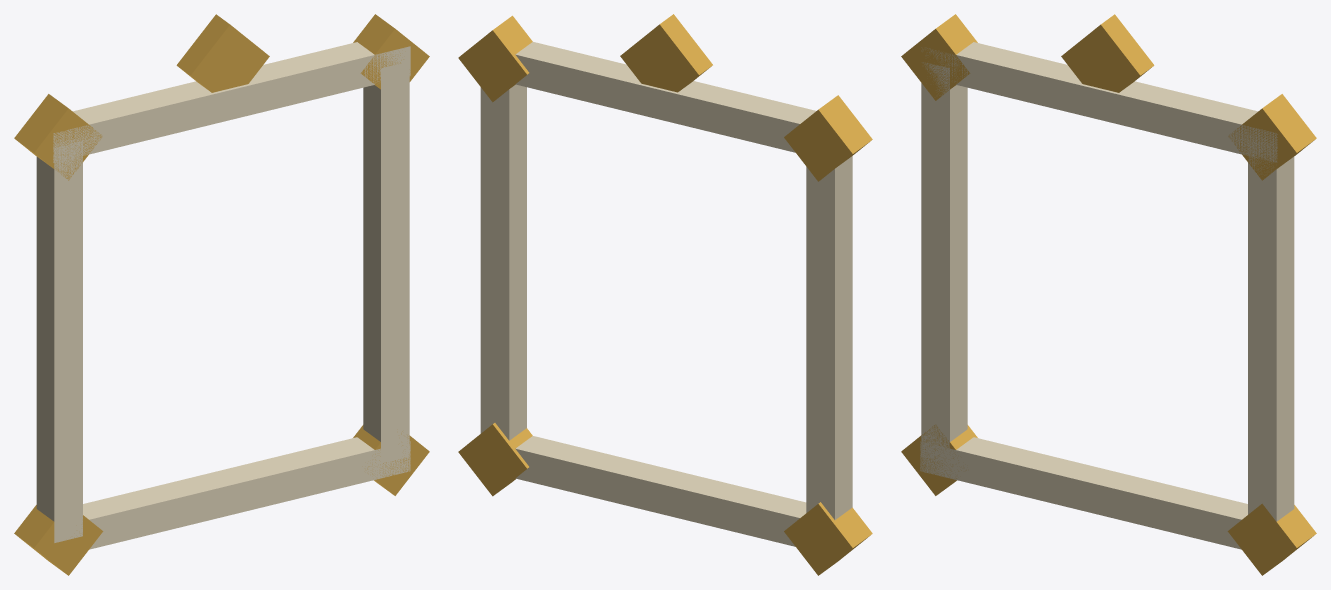
Rendered from ivory_portrait_frame.glb.
The picture shows the model from 3 angles, left to right: view 1: azimuth 30°, elevation 25°; view 2: azimuth 150°, elevation 25°; view 3: azimuth 330°, elevation 25°; orthographic projection.
Parts seen in each view (by area): view 1: ivory_portrait_frame; view 2: ivory_portrait_frame; view 3: ivory_portrait_frame.
Boxes of the visible parts, x1,y1,x2,y2 form: ivory_portrait_frame: (14,14,429,575); ivory_portrait_frame: (458,14,872,575); ivory_portrait_frame: (901,14,1316,575).
Bounding box in the file's own units: 3.88 × 4.78 × 0.34.
